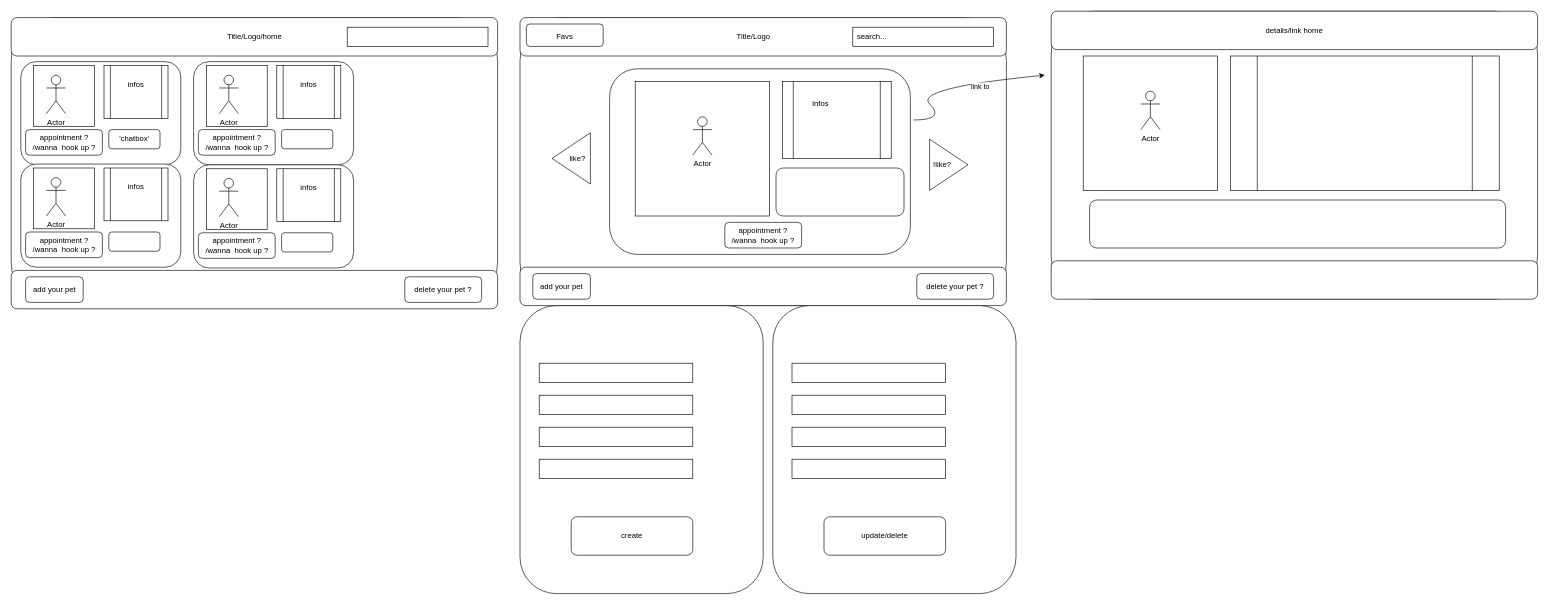
Some shapes in this 1549 by 605 pixel diagram are drawn without their labels. Here are the shapes that lost their labels. From the top down, the centre of each, then its label:
the point at 1364,122: more infos
the point at 839,191: latest tweets
the point at 1297,223: chat a lot ?
